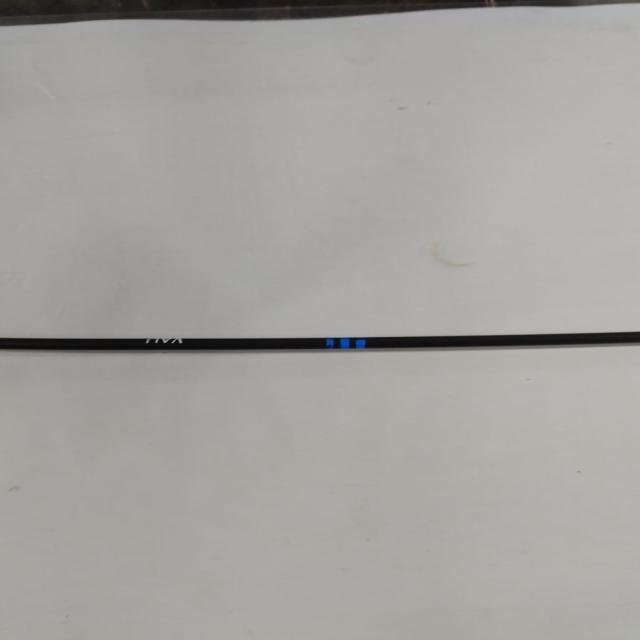blue: (324, 338, 366, 349)
